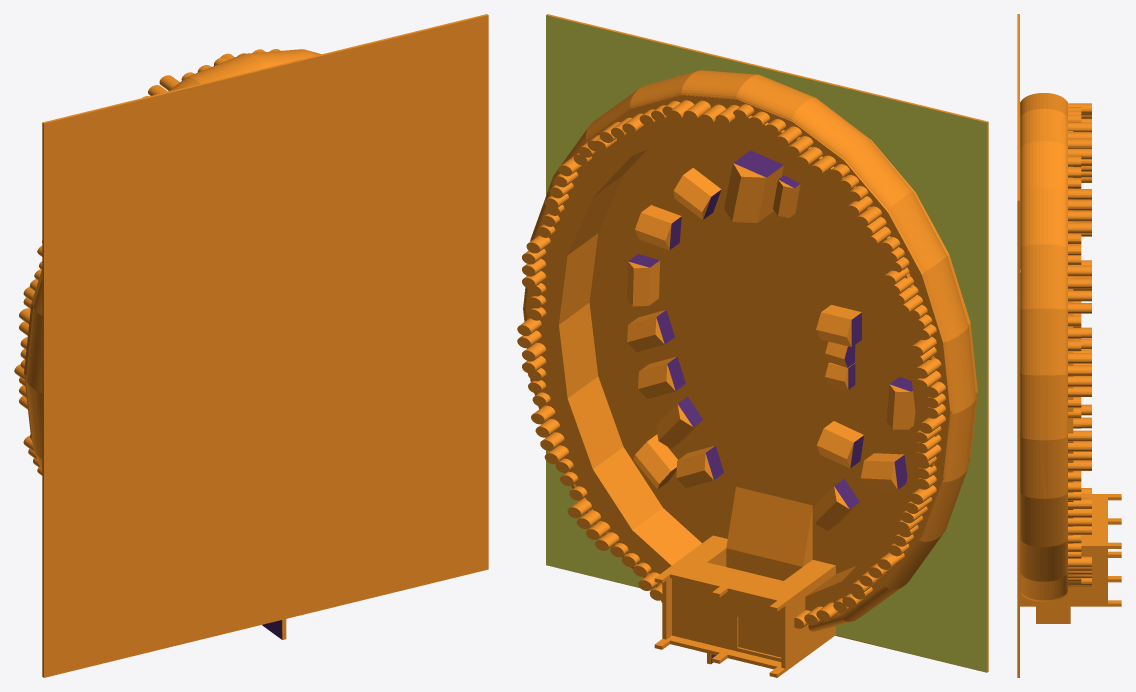
File: Piotrówka.obj
3 renders of one model, left to right at view 1: azimuth 30°, elevation 25°; view 2: azimuth 150°, elevation 25°; view 3: azimuth 270°, elevation 25°, orthographic. The views are drawn at different scales.
Visible parts, largest first — view 1: Piotrowka_osada; view 2: Piotrowka_osada; view 3: Piotrowka_osada.
Boxes of the visible parts, box(x1,y1,x2,y2) form: Piotrowka_osada: box(14, 14, 488, 677); Piotrowka_osada: box(517, 14, 988, 677); Piotrowka_osada: box(1017, 14, 1121, 677).
Size of the model in its own units: 42.85 by 53.66 by 10.06.
